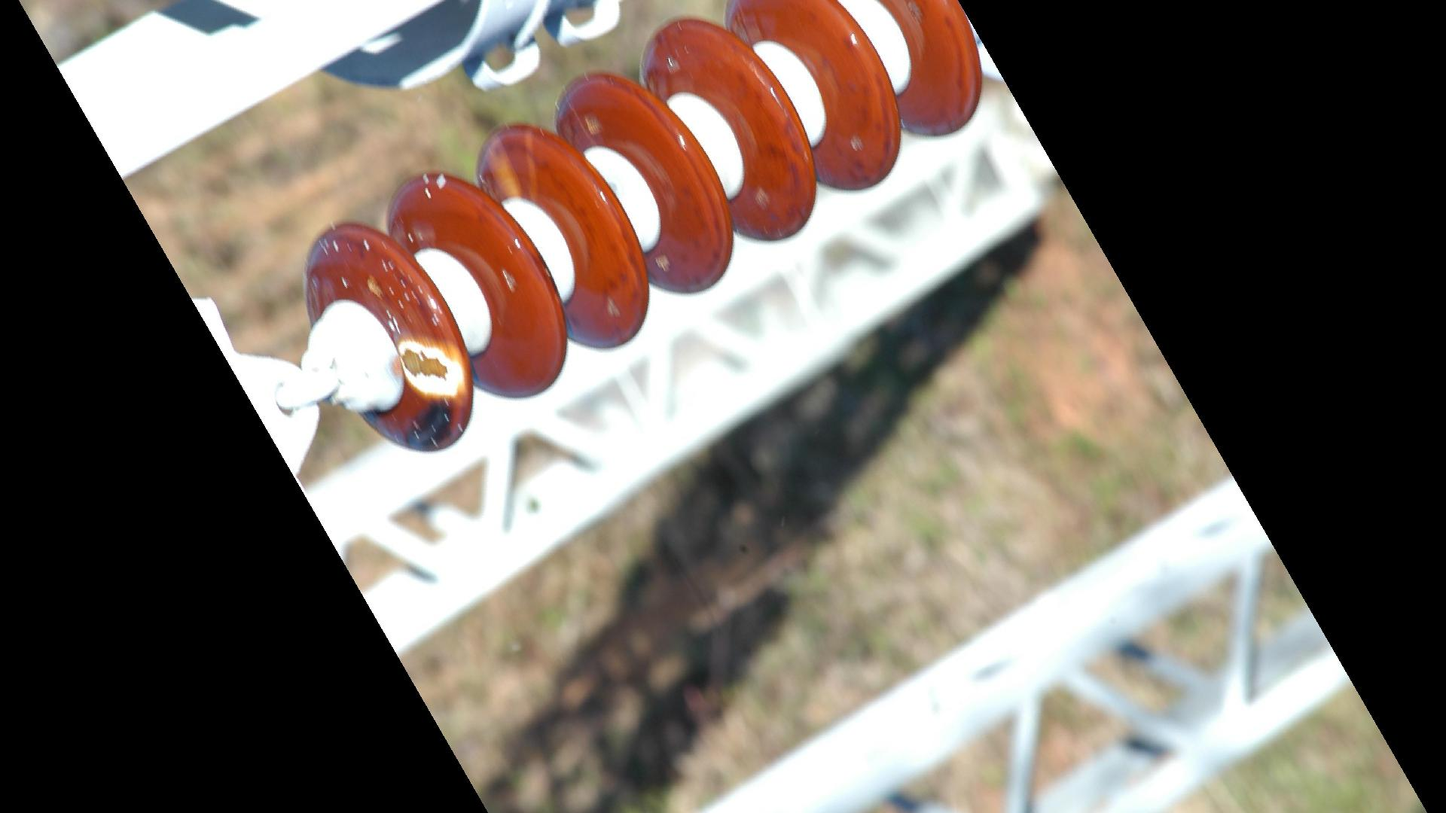insulator: (297, 1, 990, 458)
insulator_flashover: (393, 336, 469, 403), (482, 137, 526, 202)
